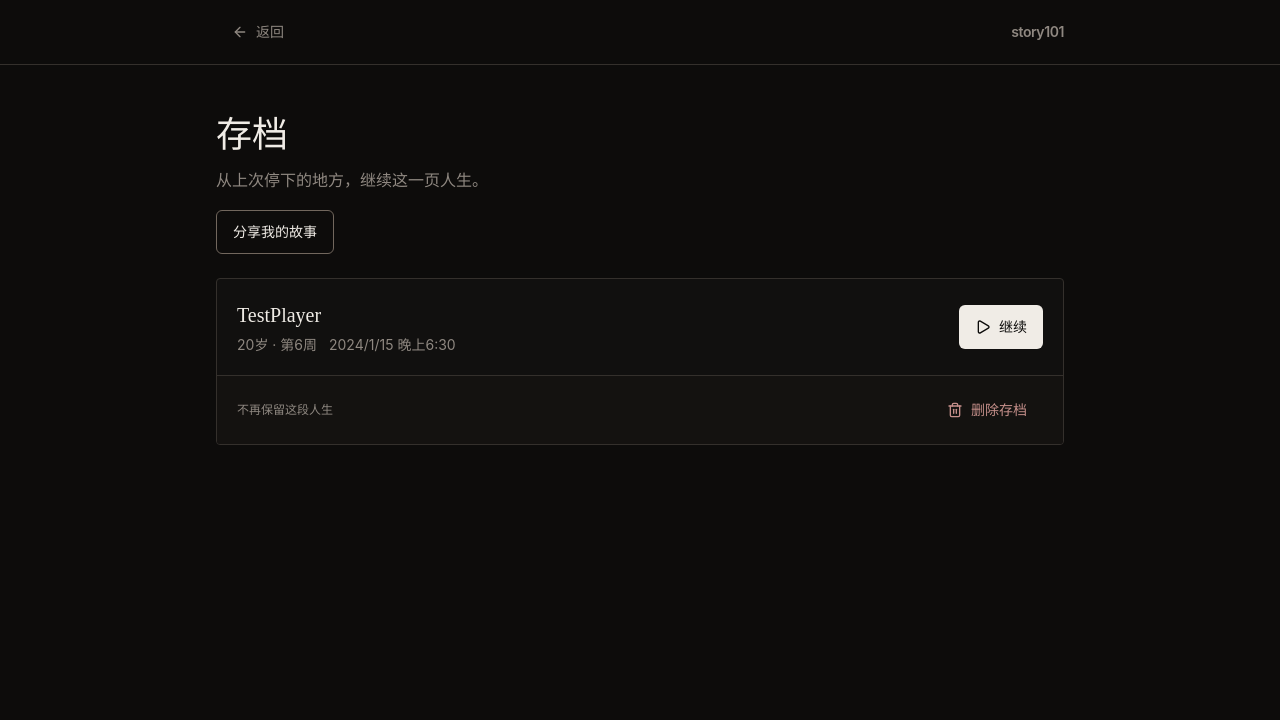
Test case: SavesPage - Interaction Handling › opens delete confirmation dialog when clicking delete button
Expected: the heading "TestPlayer" is shown, [237,304,321,326]
Click the button "删除存档": (987, 410) [931,388,1043,432]
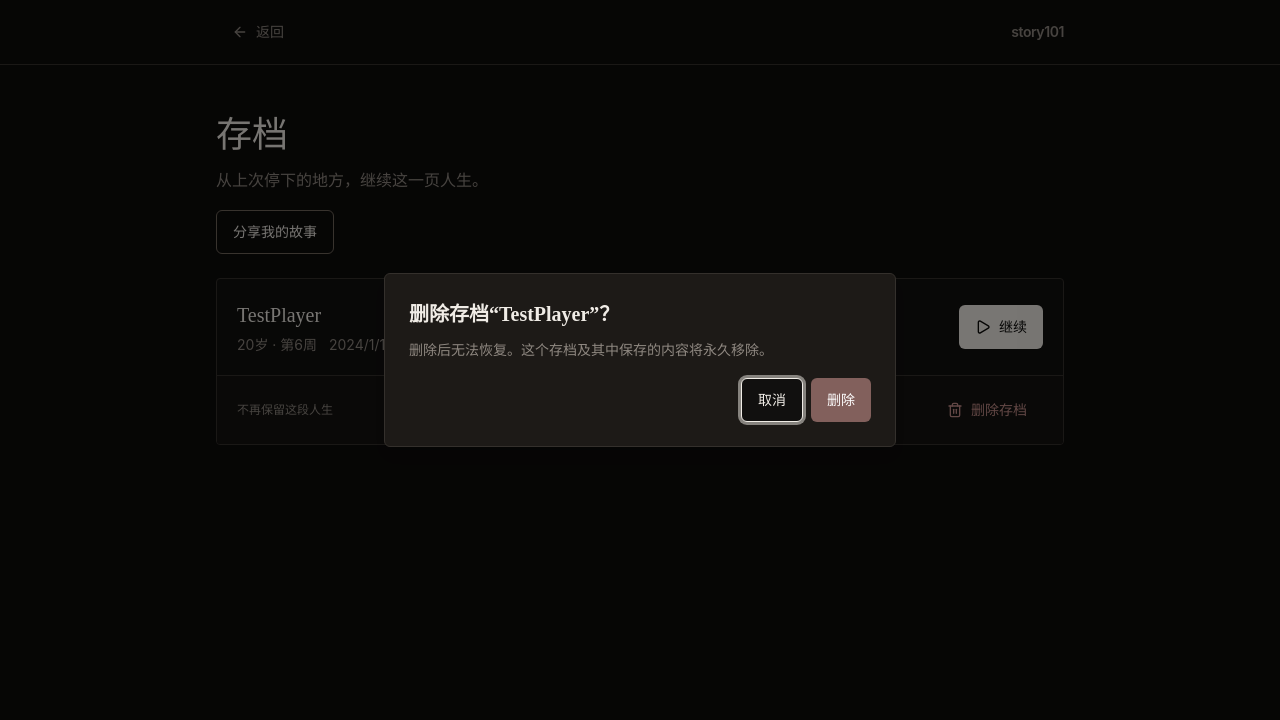
Expected: the dialog is shown, [384,273,896,447]
Expected: the heading "删除存档“TestPlayer”？" is shown, [409,303,619,325]
Expected: the text "删除后无法恢复" is shown, [409,341,549,358]
